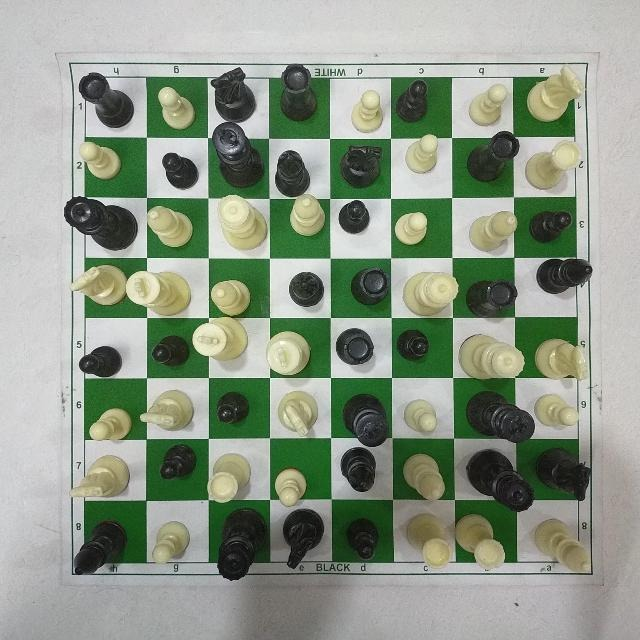black-bishop: (72, 520, 126, 575), (534, 255, 596, 297), (274, 150, 312, 197), (340, 448, 375, 494), (289, 270, 324, 307)
black-king: (210, 120, 267, 190), (466, 392, 536, 446), (342, 392, 389, 446)
black-knight: (534, 447, 591, 501), (207, 66, 255, 128), (283, 509, 325, 571), (341, 145, 383, 189)
black-pawn: (529, 209, 573, 245), (161, 150, 198, 190), (395, 78, 427, 123), (80, 344, 122, 378), (346, 519, 378, 561), (159, 444, 196, 479), (150, 336, 190, 368), (213, 391, 249, 425), (337, 200, 371, 234), (394, 330, 429, 362)
black-queen: (63, 195, 138, 253), (468, 450, 534, 512), (218, 507, 265, 582)
black-rook: (80, 71, 134, 129), (465, 131, 520, 185), (277, 62, 320, 120), (468, 278, 518, 317), (350, 267, 389, 306), (334, 329, 374, 367)
white-bishop: (534, 516, 592, 574), (145, 204, 195, 248), (468, 209, 518, 252), (402, 451, 444, 501), (208, 278, 252, 317), (291, 196, 327, 238)
white-king: (126, 271, 192, 315), (191, 318, 247, 362), (266, 329, 310, 376)
white-knight: (527, 62, 585, 123), (71, 454, 129, 500), (534, 338, 590, 382), (74, 264, 126, 306), (140, 391, 194, 431), (275, 390, 317, 437)
white-pawn: (78, 140, 122, 183), (155, 83, 196, 128), (470, 83, 508, 128), (151, 522, 191, 564), (537, 392, 581, 428), (89, 409, 132, 443), (405, 133, 439, 175), (352, 89, 383, 135), (273, 467, 309, 506), (404, 398, 440, 435), (393, 212, 430, 247)
white-queen: (460, 333, 525, 383), (217, 195, 269, 251), (404, 272, 458, 316)
white-rook: (453, 512, 507, 570), (525, 139, 580, 190), (405, 513, 452, 568), (204, 451, 251, 503)
